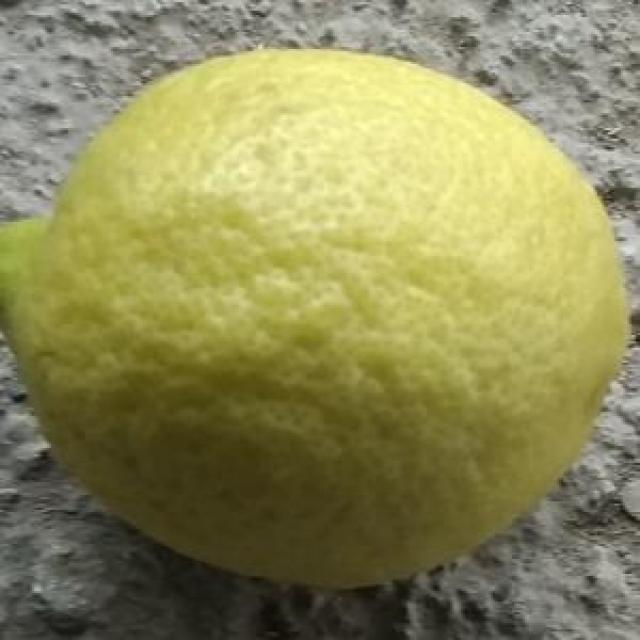lemon: (0, 48, 631, 583)
